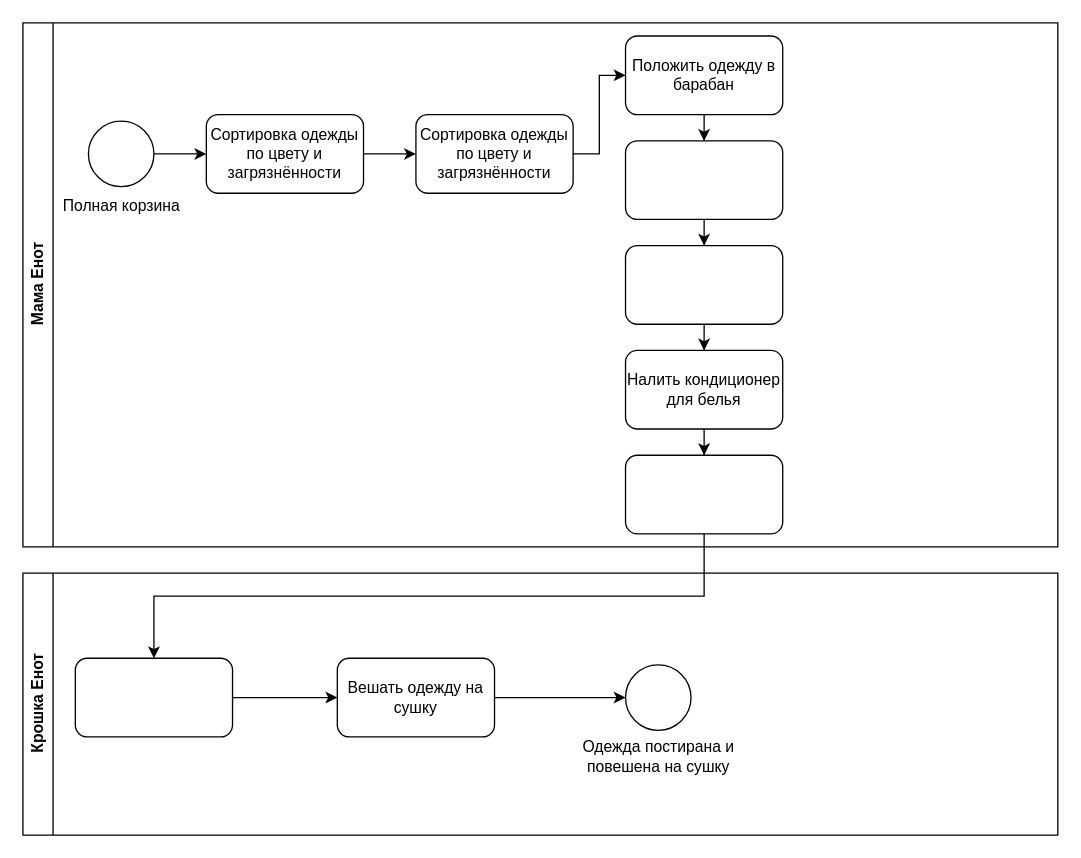
Image size: 1081x858. Some labels were removed from this diagram. Here are the shapes that lost their labels. From the top down, the centre of each, then its label:
At [703,179]: "Выбрать программу стирки".
At [703,284]: "Насыпать порошок для стирки".
At [703,494]: "Запустить программу стирки".
At [153,697]: "Достать одежду из стиральной машины".
